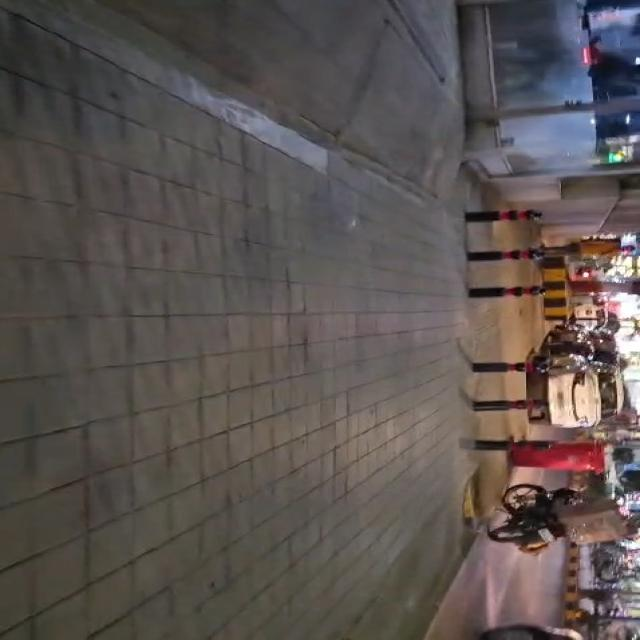barrier: (488, 485, 578, 548), (503, 484, 578, 513)
bench: (473, 440, 605, 473), (472, 357, 548, 372), (468, 248, 543, 262), (465, 209, 542, 222), (473, 439, 554, 451), (469, 287, 546, 298), (473, 400, 547, 411)
bike: (472, 98, 639, 124)
